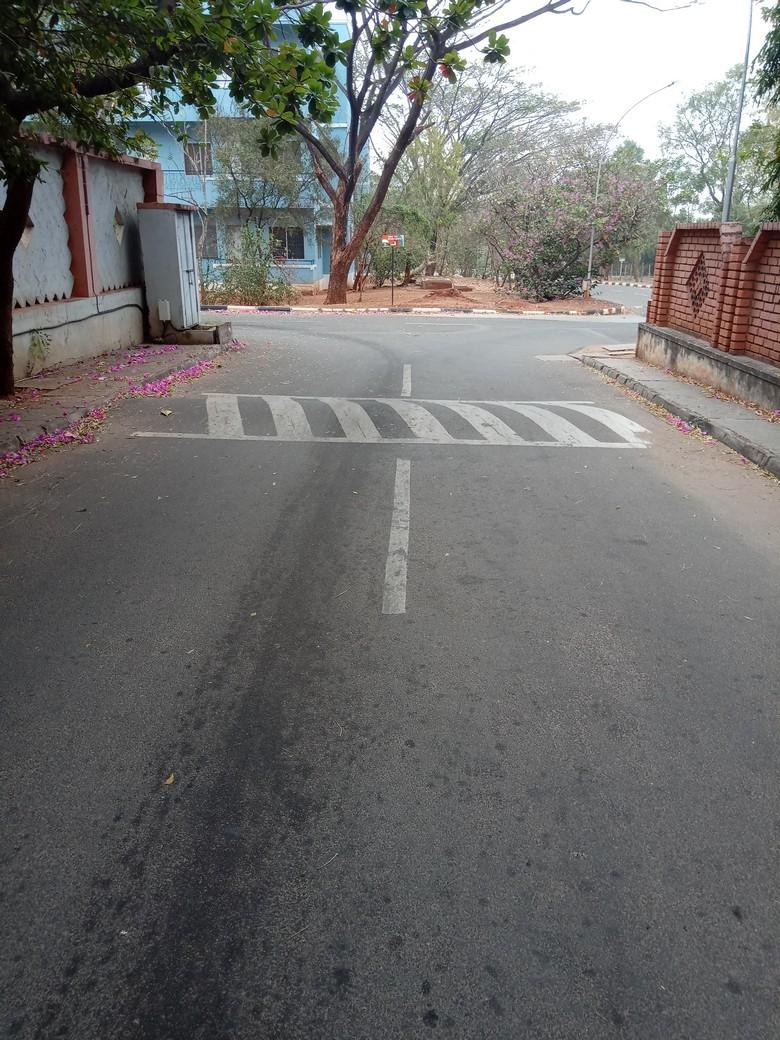speed-bump: (119, 391, 678, 448)
